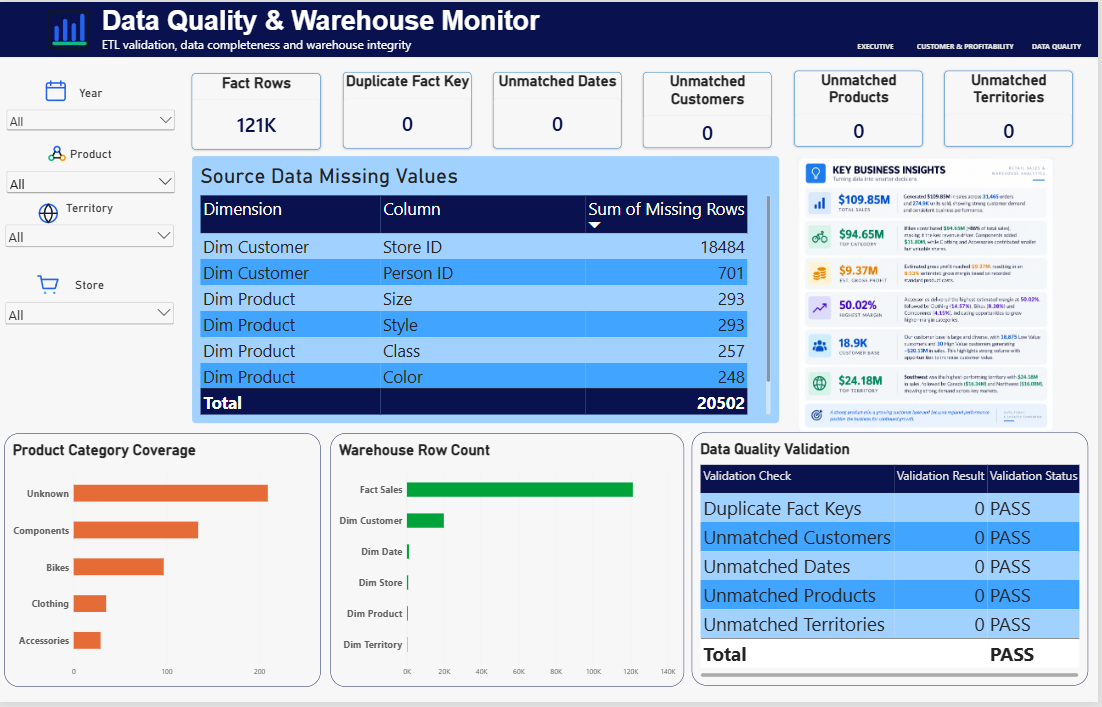

The dashboard page shown, as its layout file describes it:
{"tool":"powerbi","page":{"name":"Page 3","canvas":[2200,1400],"ordinal":2},"visuals":[{"type":"shape","box":[0,0,2600,110.1],"z":0},{"type":"cardVisual","title":"Fact Rows","fields":{"Data":["Customer Segments.Fact Rows"]},"box":[387.5,142.5,257.5,152.5],"z":1000},{"type":"cardVisual","title":"Duplicate Fact Key","fields":{"Data":["Customer Segments.Duplicate Fact Keys"]},"box":[688.9,141.2,257,152.5],"z":2000},{"type":"cardVisual","title":"Unmatched Dates","fields":{"Data":["Customer Segments.Unmatched Dates"]},"box":[989.8,139.9,257,152.5],"z":3000},{"type":"textbox","box":[207.1,7.4,1200.8,120.8],"z":4000},{"type":"actionButton","title":"Analyze","box":[1700.9,64.5,110,45.5],"z":5000},{"type":"cardVisual","title":"Unmatched Customers","fields":{"Data":["Customer Segments.Unmatched Customers"]},"box":[1290.7,139.1,257,152],"z":6000},{"type":"cardVisual","title":"Unmatched Products","fields":{"Data":["Customer Segments.Unmatched Products"]},"box":[1591.6,138.3,257,152],"z":7000},{"type":"slicer","title":"Year","fields":{"Values":["Dim Date.year"]},"box":[12.6,168.7,345.9,150.3],"z":8000},{"type":"slicer","title":"Product","fields":{"Values":["Dim Product.category_name"]},"box":[12.2,289.6,346.7,106.7],"z":9000},{"type":"slicer","title":"Territory","fields":{"Values":["Dim Territory.territory_name"]},"box":[10.1,397,346.7,123.3],"z":10000},{"type":"image","box":[100,0,82.5,110],"z":11000},{"type":"image","box":[92.5,270,51.4,71.4],"z":12000},{"type":"image","box":[90.6,153.6,51.2,50],"z":13000},{"type":"image","box":[75.5,397.8,51.2,50],"z":14000},{"type":"slicer","title":"Store","fields":{"Values":["Dim Store.store_name"]},"box":[10,553.3,346.7,123.3],"z":15000},{"type":"tableEx","title":"Source Data Missing Values","fields":{"Values":["Missing Values.Dimension","Missing Values.Column","Sum(Missing Values.Missing Rows)"]},"box":[387.5,307.5,1175,535],"z":16000},{"type":"image","box":[75,539.2,51,50.8],"z":17000},{"type":"clusteredBarChart","title":"Product Category Coverage","fields":{"Category":["Dim Product.category_name"],"Y":["Customer Segments.Prodcut Count"]},"box":[12.5,862.5,632.5,507.5],"z":18000},{"type":"image","box":[1563.3,310,586.7,550],"z":19000},{"type":"actionButton","title":"Analyze","box":[1825.5,64.5,219.1,45.5],"z":20000},{"type":"actionButton","title":"Analyze","box":[2035.5,65.5,164.5,45.5],"z":21000},{"type":"cardVisual","title":"Unmatched Territories","fields":{"Data":["Customer Segments.Unmatched Territories"]},"box":[1892.5,137.5,257,152],"z":22000},{"type":"clusteredBarChart","title":"Warehouse Row Count","fields":{"Category":["Warehouse Row Counts.Table Name"],"Y":["Warehouse Row Counts.Warehouse Row Count"]},"box":[665,862.5,707.5,507.5],"z":23000},{"type":"tableEx","title":"Data Quality Validation","fields":{"Values":["Data Quality Checks.Validation Check","Data Quality Checks.Validation Result","Data Quality Checks.Validation Status"]},"box":[1387.5,860,792.5,507.5],"z":24000}]}

Visuals, with their boxes in screenshot pixels (x1, y1, x2, y2), scaled from the page's 2200x1400 canvas onto the 1102x707 screenshot:
shape: bbox=[0, 0, 1101, 56]
"Fact Rows" cardVisual: bbox=[194, 72, 323, 149]
"Duplicate Fact Key" cardVisual: bbox=[345, 71, 474, 148]
"Unmatched Dates" cardVisual: bbox=[496, 71, 625, 148]
textbox: bbox=[104, 4, 705, 65]
"Analyze" actionButton: bbox=[852, 33, 907, 56]
"Unmatched Customers" cardVisual: bbox=[647, 70, 775, 147]
"Unmatched Products" cardVisual: bbox=[797, 70, 926, 147]
"Year" slicer: bbox=[6, 85, 180, 161]
"Product" slicer: bbox=[6, 146, 180, 200]
"Territory" slicer: bbox=[5, 200, 179, 263]
image: bbox=[50, 0, 91, 56]
image: bbox=[46, 136, 72, 172]
image: bbox=[45, 78, 71, 103]
image: bbox=[38, 201, 63, 226]
"Store" slicer: bbox=[5, 279, 179, 342]
"Source Data Missing Values" tableEx: bbox=[194, 155, 783, 425]
image: bbox=[38, 272, 63, 298]
"Product Category Coverage" clusteredBarChart: bbox=[6, 436, 323, 692]
image: bbox=[783, 157, 1077, 434]
"Analyze" actionButton: bbox=[914, 33, 1024, 56]
"Analyze" actionButton: bbox=[1020, 33, 1101, 56]
"Unmatched Territories" cardVisual: bbox=[948, 69, 1077, 146]
"Warehouse Row Count" clusteredBarChart: bbox=[333, 436, 687, 692]
"Data Quality Validation" tableEx: bbox=[695, 434, 1092, 691]
